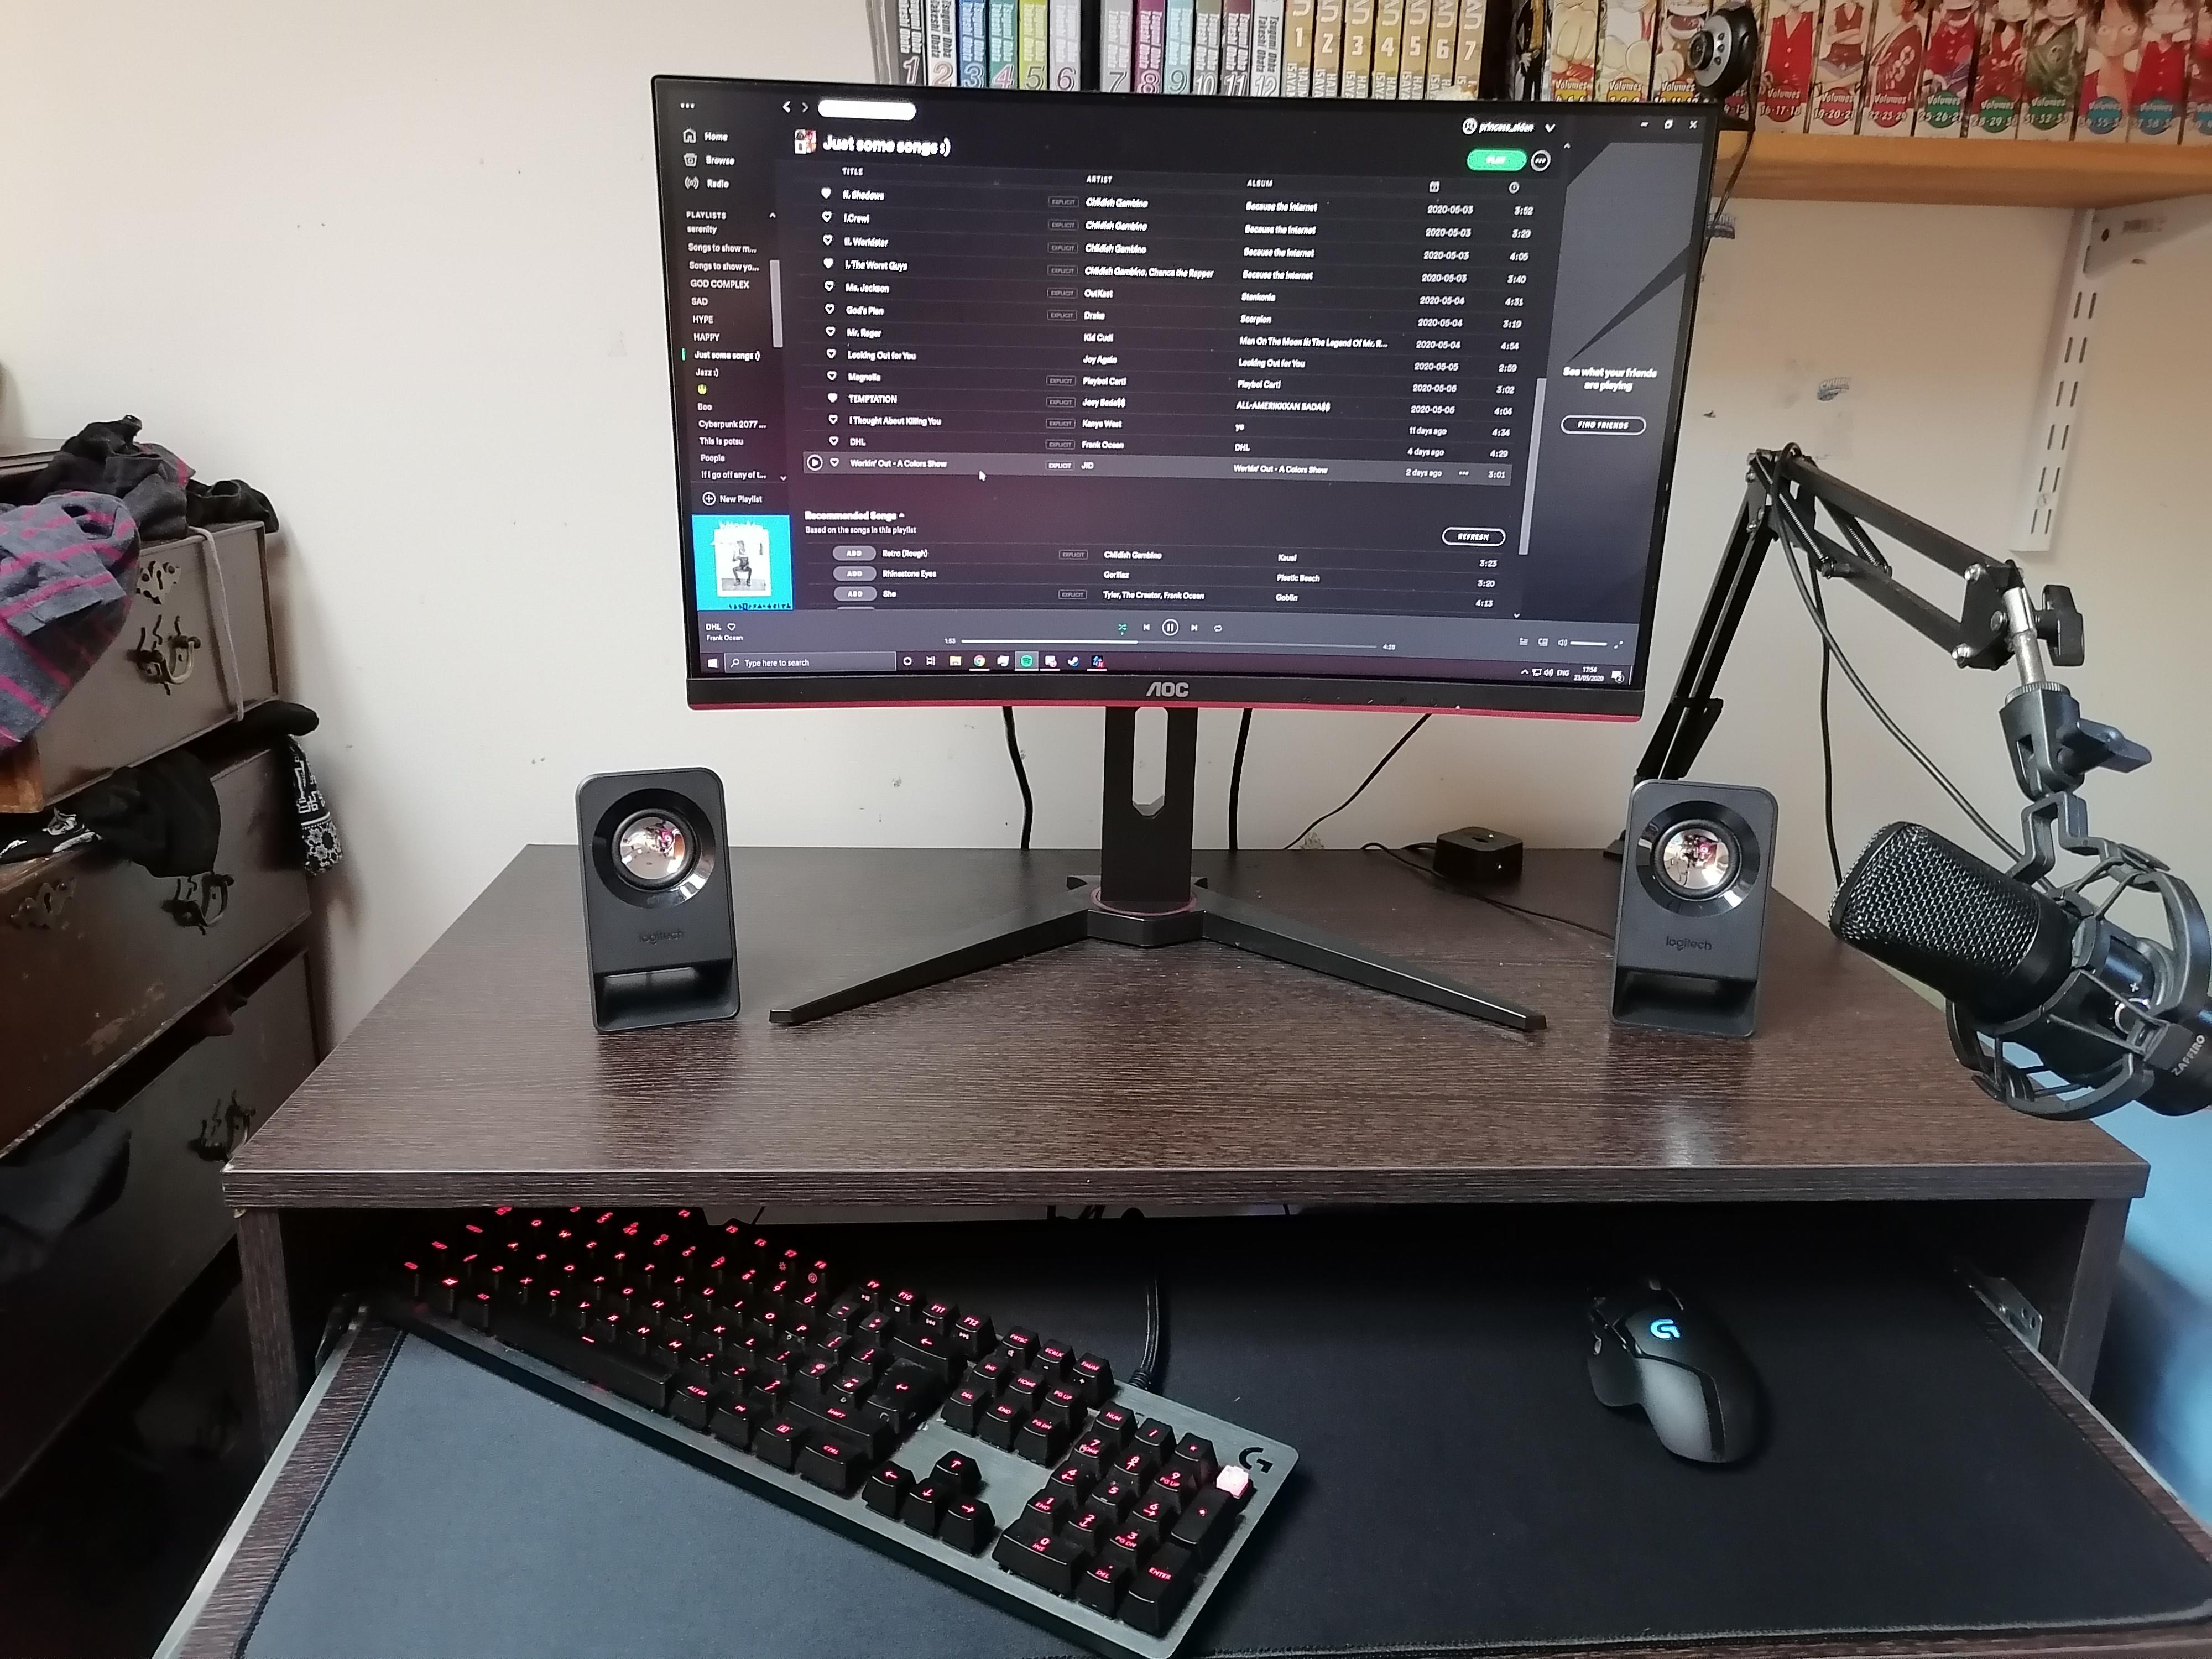Book: (873, 2, 2203, 213)
Desk (Generic): (148, 824, 2212, 1659)
External Microphone (with Boom Arm): (1623, 429, 2212, 1147)
External Speakers (Generic): (554, 739, 752, 1044), (1597, 769, 1784, 1054)
External Webcam: (1660, 0, 1792, 188)
Keyboard (Gaming): (317, 1147, 1317, 1659)
Monitor (Landscape): (644, 64, 1733, 1066)
Mouse (Gaming): (1566, 1262, 1780, 1492)
Mousepad (Gaming): (280, 1194, 2184, 1659)
